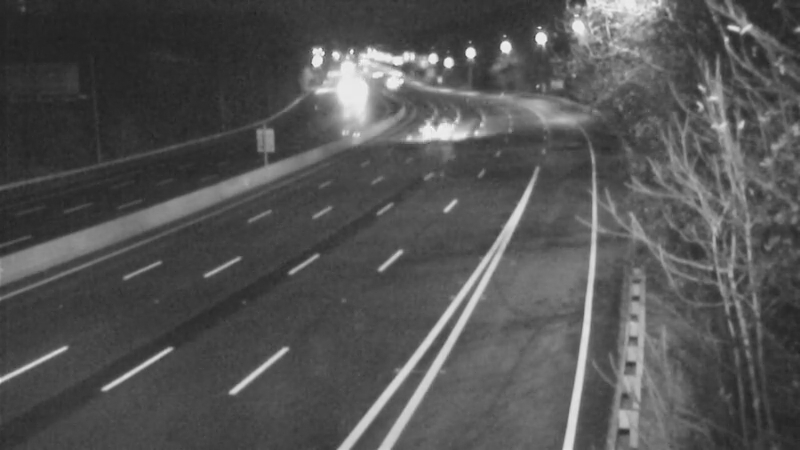vehicle: (368, 56, 418, 106), (416, 107, 466, 157), (329, 72, 379, 122)
